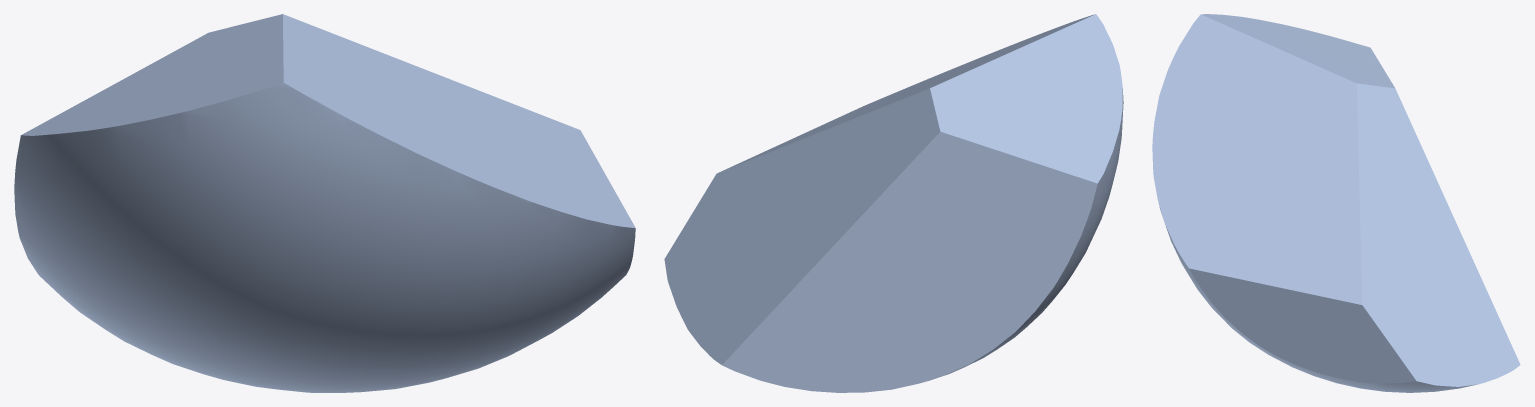
File: Ball3_5.fbx
3 views of the same model, side by side, from view 1: azimuth 30°, elevation 25°; view 2: azimuth 150°, elevation 25°; view 3: azimuth 270°, elevation 25° (orthographic). The views are drawn at different scales.
Visible parts, largest first — view 1: Cube_cell.057; view 2: Cube_cell.057; view 3: Cube_cell.057.
Part boxes in pixels (bbox=[...]): Cube_cell.057: bbox=[14, 14, 635, 392]; Cube_cell.057: bbox=[664, 14, 1123, 392]; Cube_cell.057: bbox=[1152, 14, 1520, 392].
Bounding box in the file's own units: 142 × 101 × 119.
